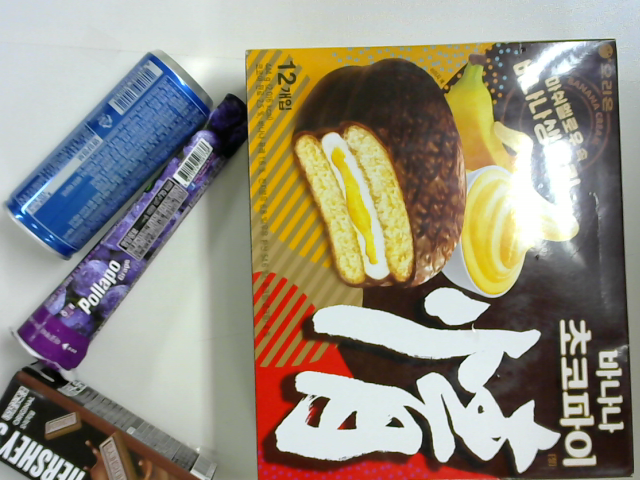Choco_Pie_Banana: (246, 40, 637, 479)
Hush_Choco_Drink: (1, 364, 217, 479)
Pepsi_Cola_Can_250ml: (4, 48, 213, 259)
Polapo_Grape: (15, 93, 249, 371)
